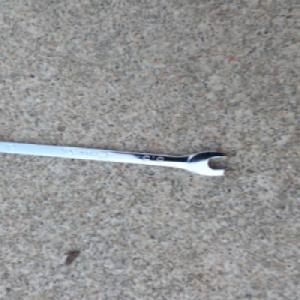Wrench: (0, 138, 233, 178)
